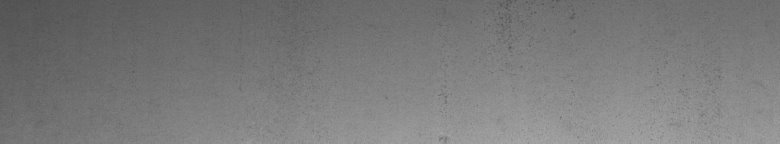ib: (438, 4, 575, 99)
